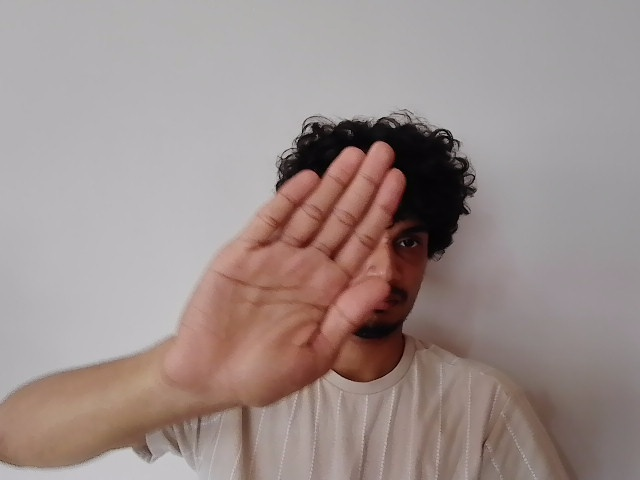hello: (178, 144, 393, 407)
